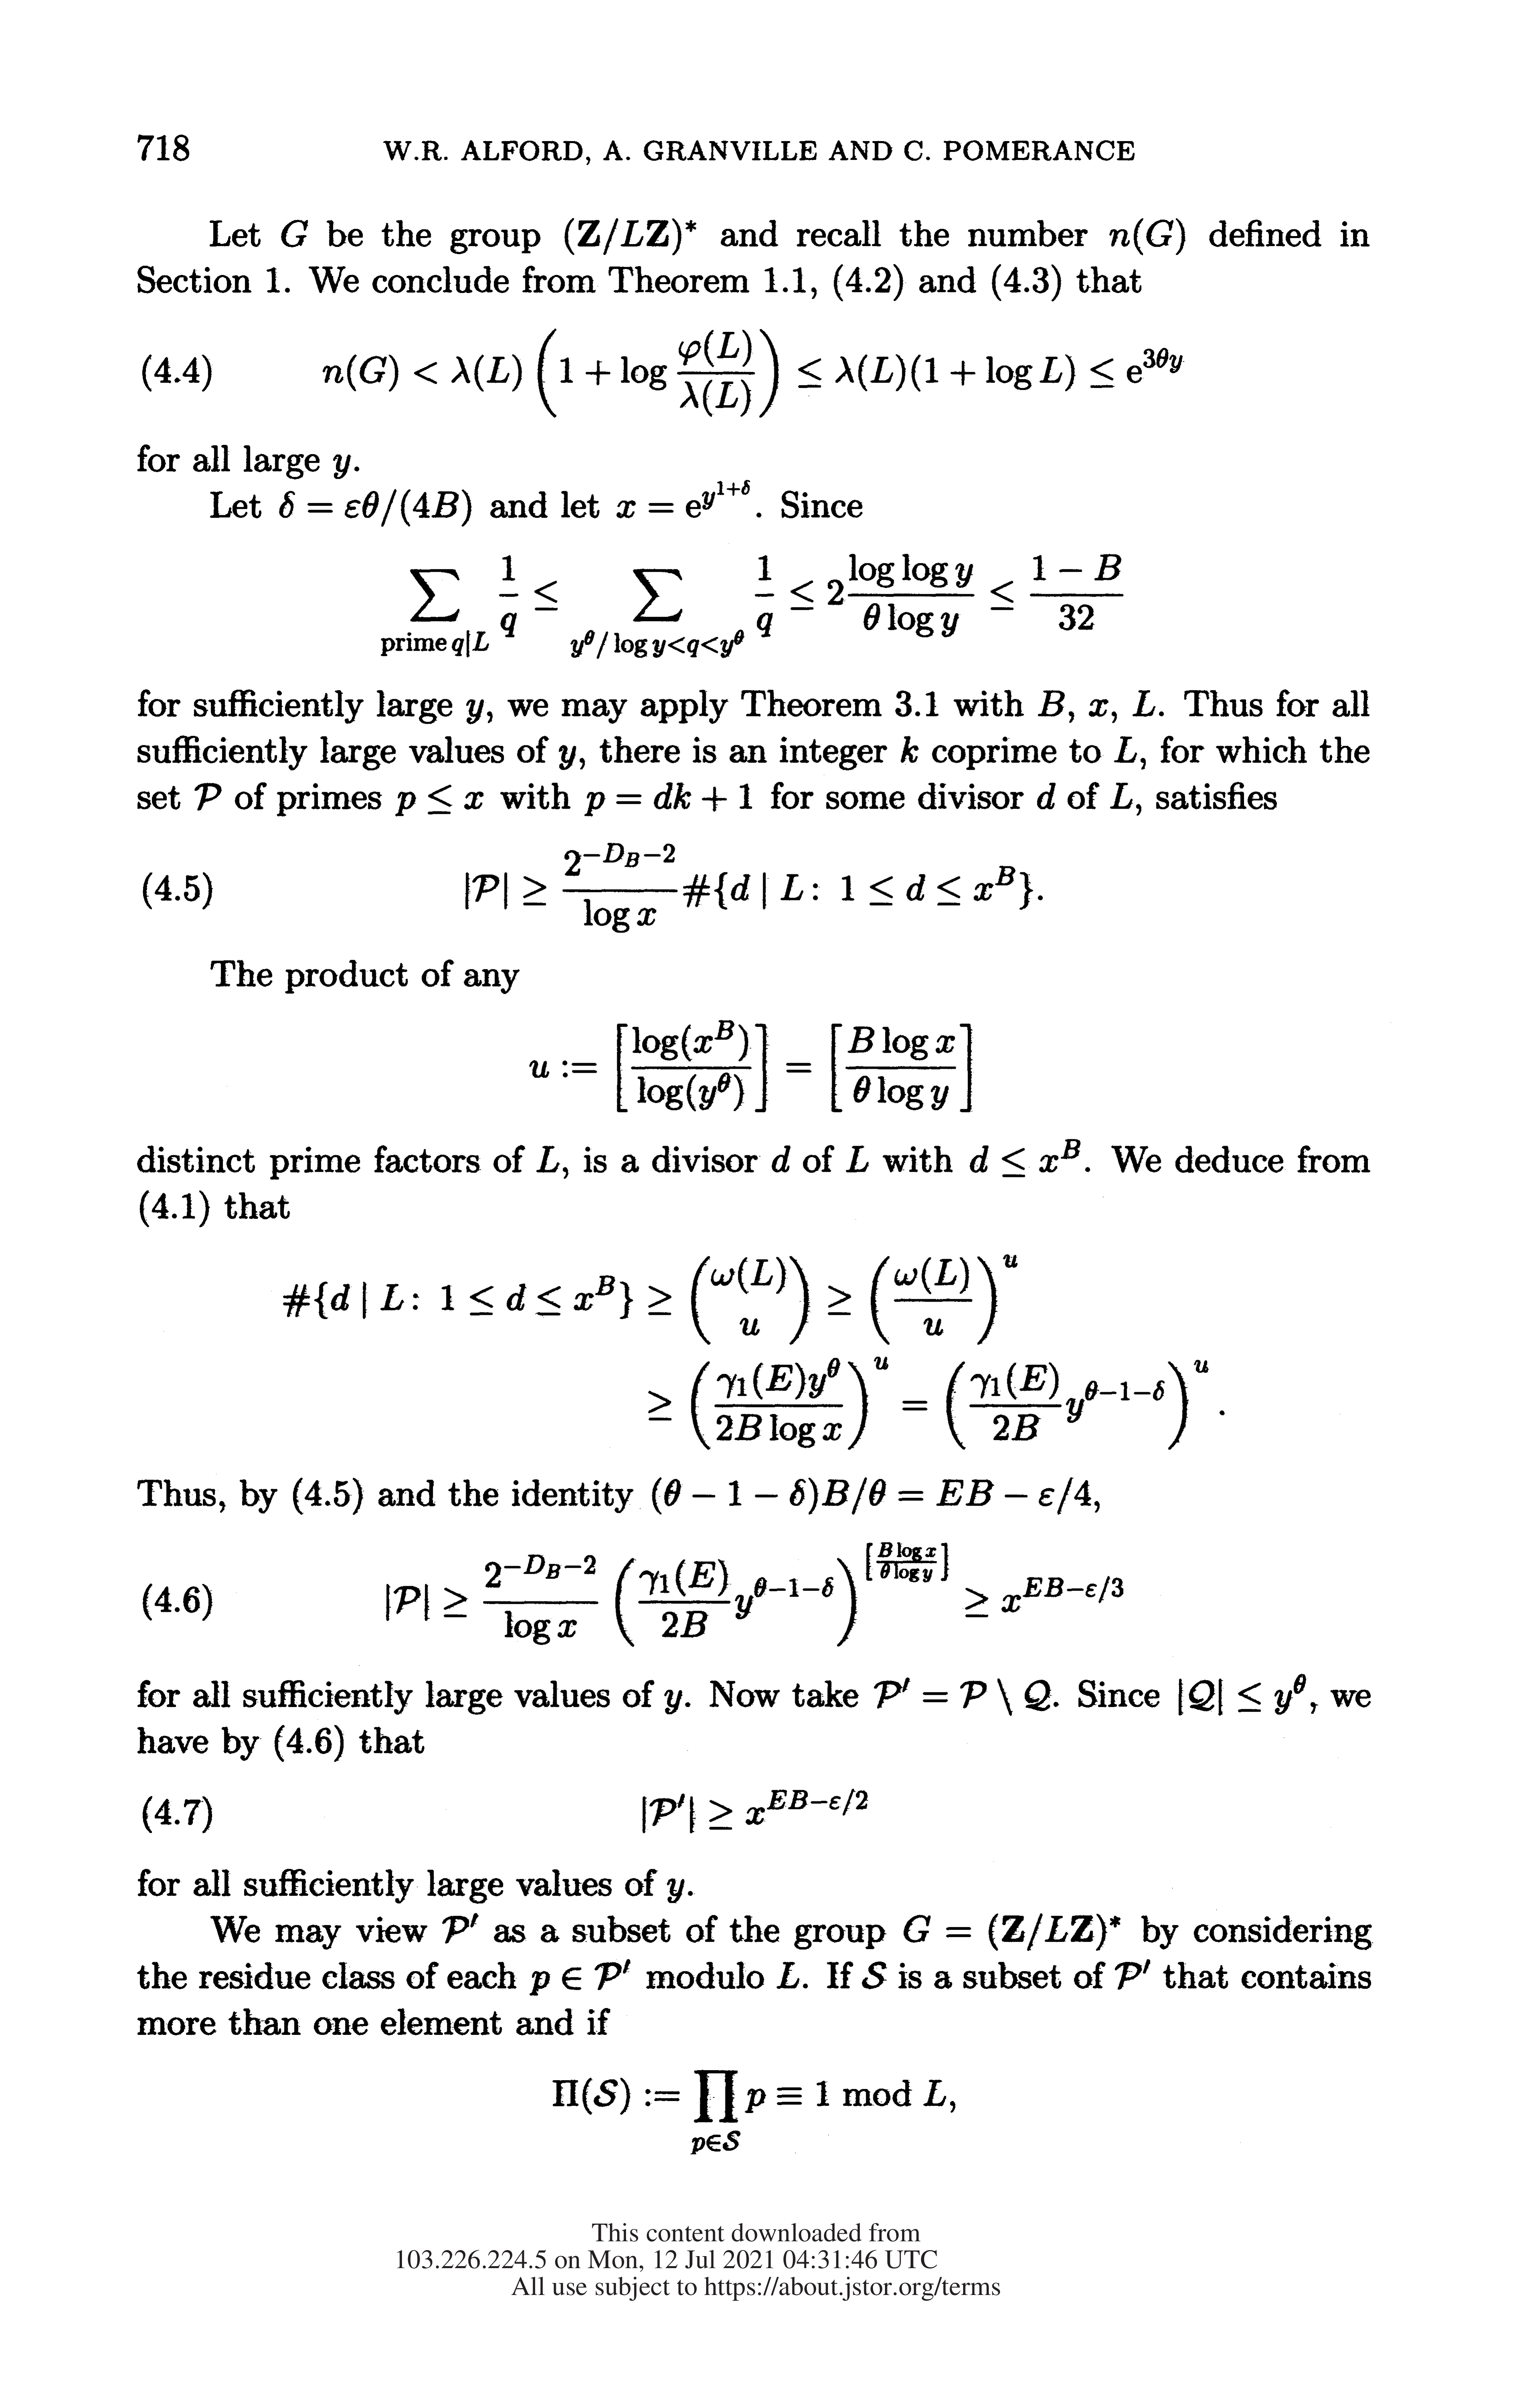maths: (380, 554, 1124, 659), (385, 1542, 1123, 1647), (322, 329, 1184, 416), (282, 1255, 1018, 1345), (648, 1357, 1208, 1450), (472, 843, 1034, 932), (530, 1019, 973, 1112), (553, 2070, 946, 2154), (652, 1478, 1091, 1514), (641, 1789, 868, 1833), (905, 1913, 1107, 1951), (279, 490, 471, 526), (873, 1678, 1051, 1716), (617, 479, 762, 517), (584, 782, 751, 815), (1178, 1674, 1306, 1716), (577, 218, 695, 254), (969, 1140, 1081, 1176), (530, 1958, 629, 1995), (1109, 218, 1185, 254), (396, 784, 483, 815), (1093, 1962, 1142, 1990), (1039, 690, 1074, 723), (443, 1913, 478, 1943), (281, 220, 309, 247), (195, 782, 221, 810), (1089, 699, 1117, 723), (333, 455, 359, 479), (465, 699, 492, 723), (863, 1962, 887, 1988), (560, 746, 584, 770), (1133, 690, 1156, 716), (1114, 735, 1136, 761), (1110, 782, 1133, 808), (537, 1147, 560, 1173), (845, 1147, 868, 1173), (777, 1962, 798, 1988), (901, 735, 919, 765), (1037, 782, 1055, 808), (772, 1147, 790, 1173), (664, 1690, 682, 1715), (668, 1878, 683, 1903)
